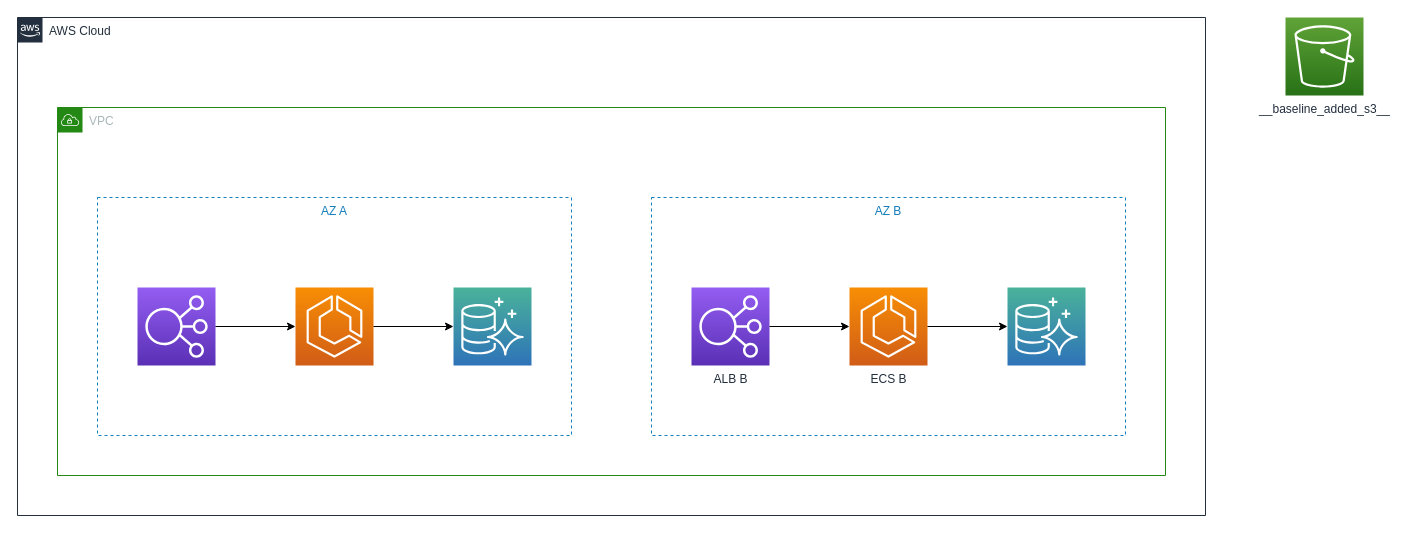
The diagram is 1407 pixels wide and 533 high, and some of its shapes have lost their labels. Here are the shapes that lost their labels. From the top down, the centre of each, then its label:
At point (176, 326): "ALB A".
At point (334, 326): "ECS A".
At point (492, 326): "AURORA A".
At point (1046, 326): "AURORA B".
